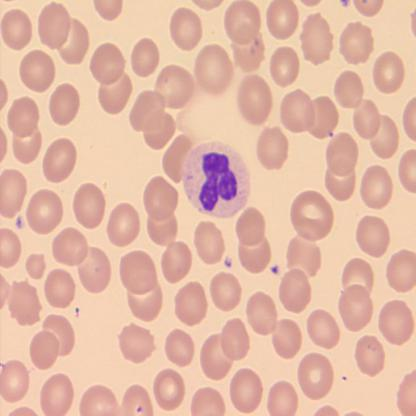Segmented neutrophil: (182, 139, 252, 220)
